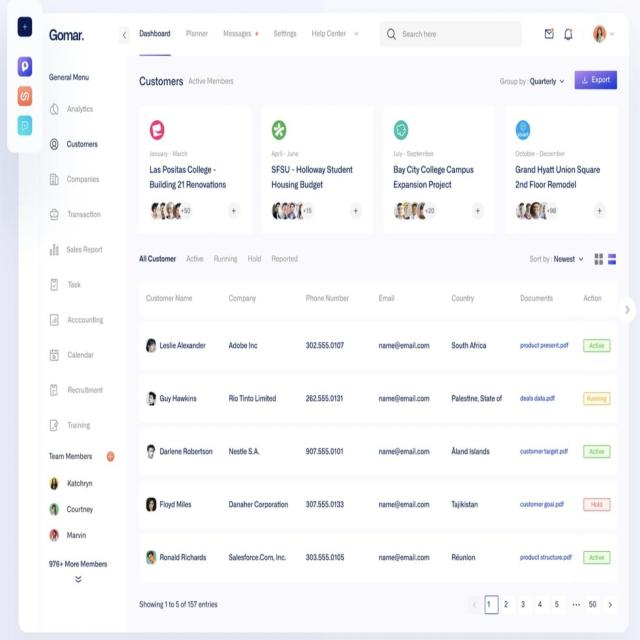button: (576, 70, 618, 88)
input: (380, 21, 522, 47)
select: (497, 72, 567, 88), (309, 24, 361, 42)
